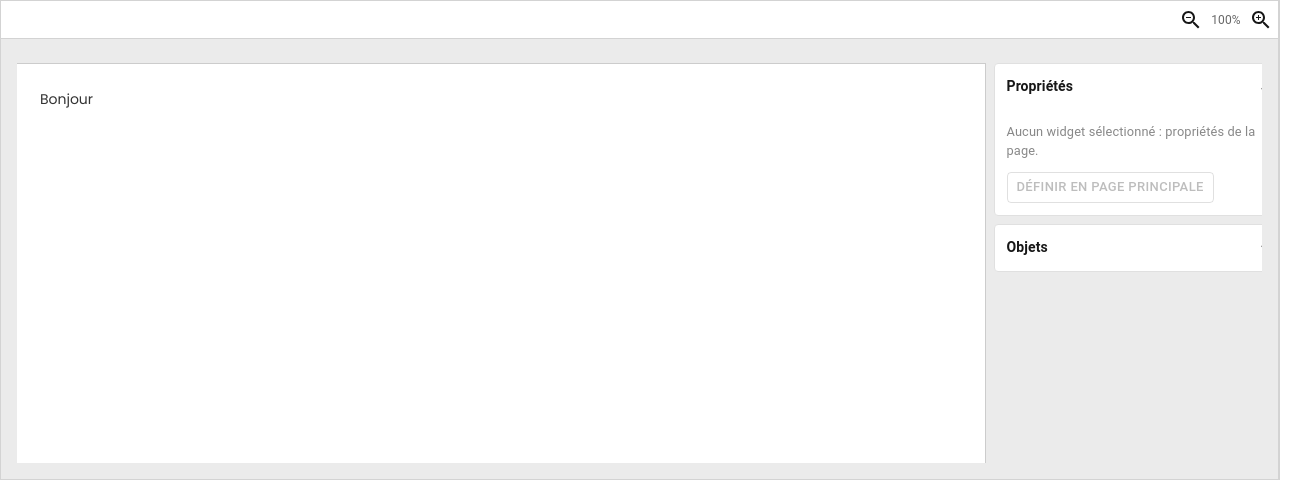
Scenario: EmbeddedApp › frozen views › HMI page › lets the properties of a widget of a frozen page be read, not modified
Check: the heading "Propriétés" is shown, box top-left (1006, 76), bottom-right (1073, 98)
Press the mouse on the text "Bonjour": (66, 98) top-left (40, 88), bottom-right (93, 108)
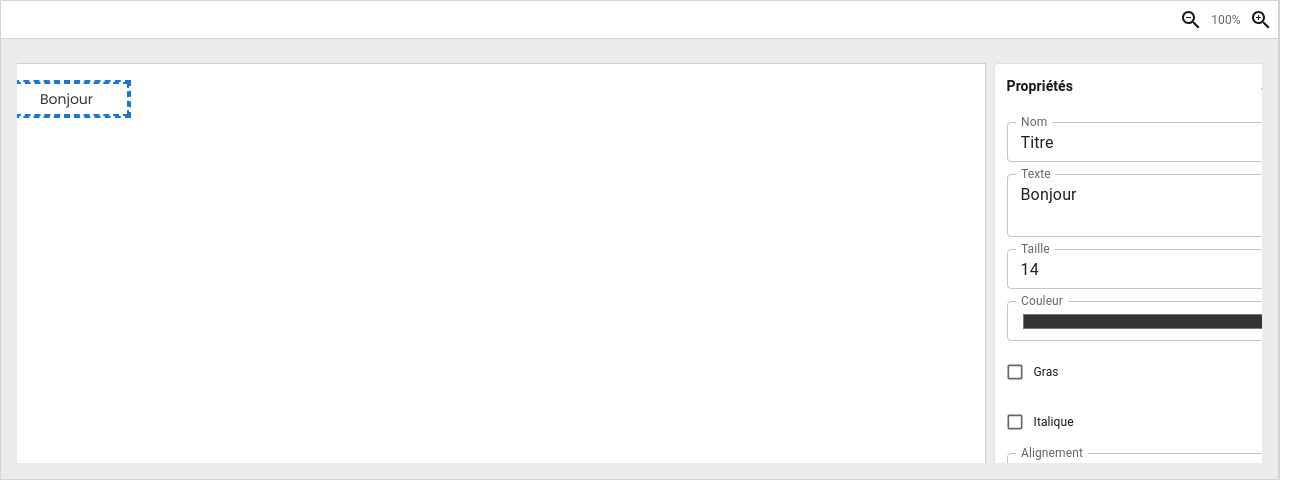
Check: the field labelled "Nom" holds "Titre", box top-left (1006, 122), bottom-right (1262, 162)
